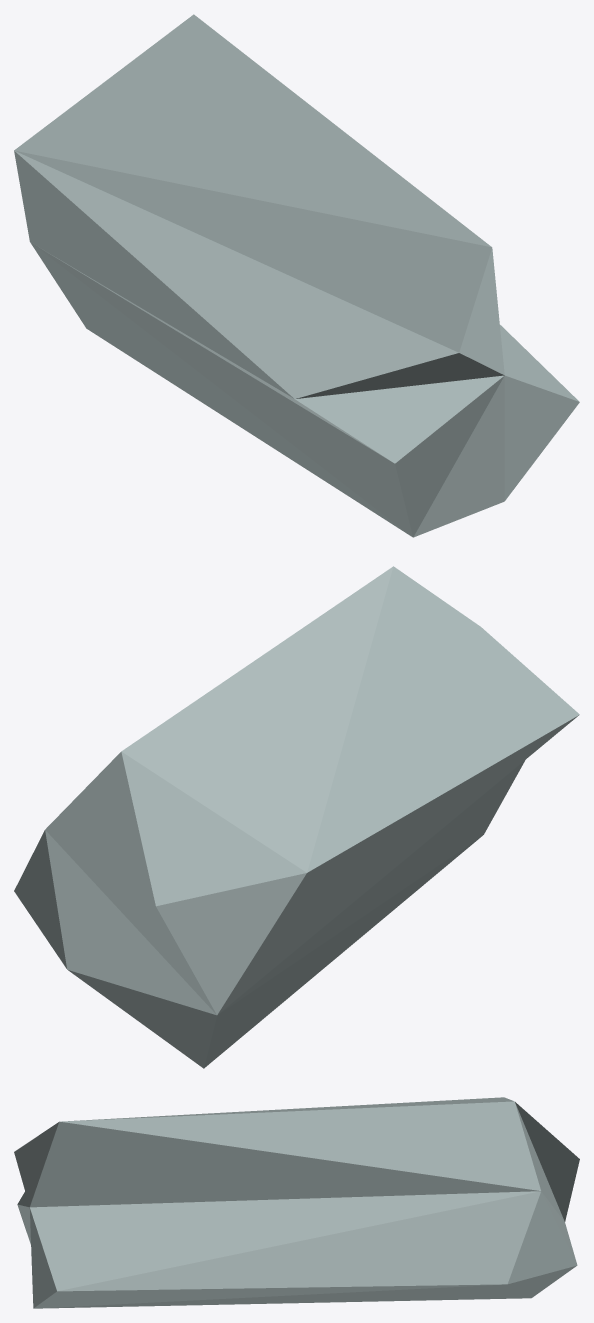
Rendered from zb014-geode.glb.
3 renders of one model, top to bottom at view 1: azimuth 30°, elevation 25°; view 2: azimuth 150°, elevation 25°; view 3: azimuth 270°, elevation 25°, orthographic. The views are drawn at different scales.
Visible parts, largest first — view 1: Node; view 2: Node; view 3: Node.
Part boxes in pixels (left/top/right/bottom): Node: left=14, top=14, right=579, bottom=537; Node: left=14, top=566, right=579, bottom=1068; Node: left=14, top=1097, right=579, bottom=1308.
Size of the model in its own units: 0.0411 by 0.0385 by 0.0845.
Materials: 1 (1 with a texture image).
